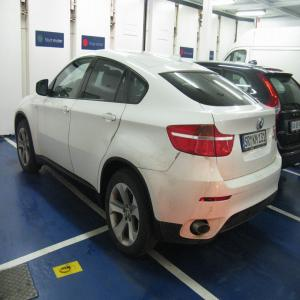Vehicle-registration-plate: (242, 131, 269, 152), (291, 120, 300, 134)
